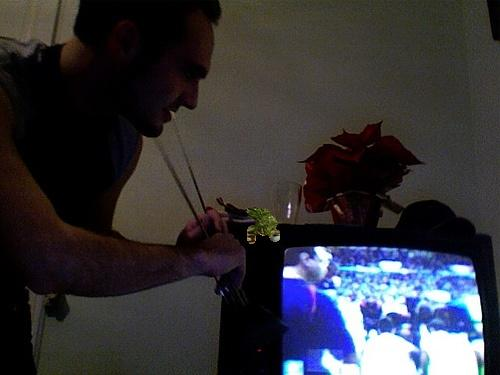tampered: (247, 209, 280, 244)
